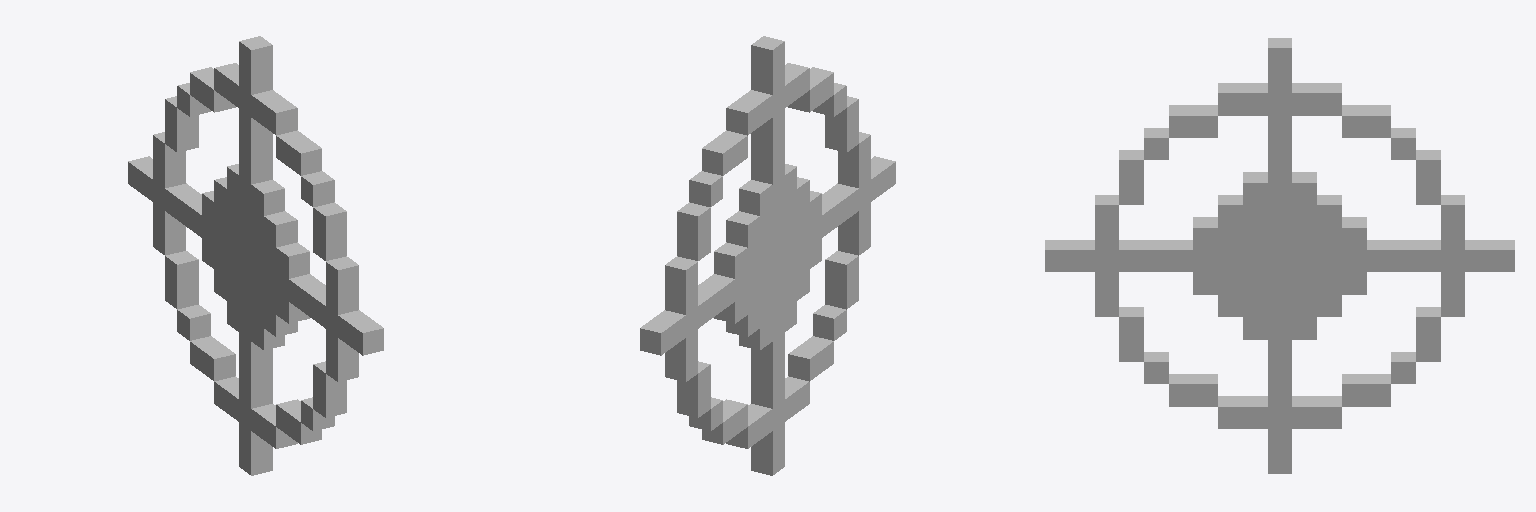
The model's file is target sign.obj.
The picture shows the model from 3 angles: view 1: azimuth 30°, elevation 25°; view 2: azimuth 150°, elevation 25°; view 3: azimuth 270°, elevation 25°; orthographic projection.
Parts seen in each view (by area): view 1: target sign; view 2: target sign; view 3: target sign.
Part boxes in pixels (x1,y1,x2,y2): target sign: (128, 36, 383, 475); target sign: (640, 36, 895, 475); target sign: (1045, 38, 1514, 473).
Size of the model in its own units: 1 by 19 by 19.